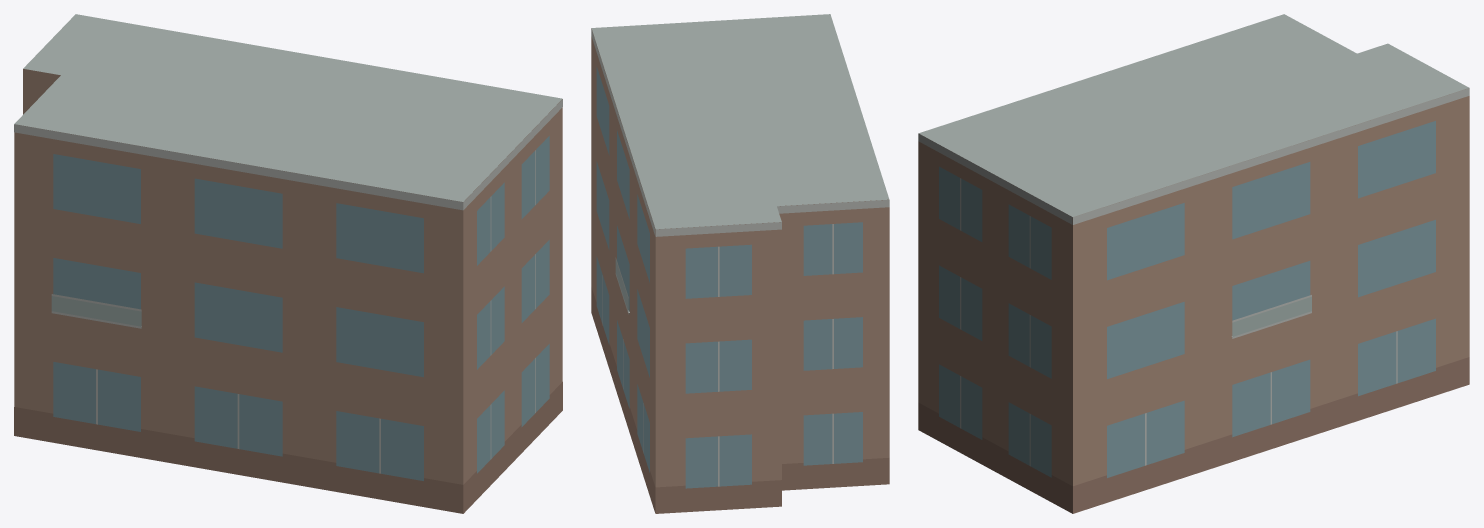
The model's file is survey-upis-32914727.glb.
3 renders of one model, left to right at view 1: azimuth 30°, elevation 25°; view 2: azimuth 150°, elevation 25°; view 3: azimuth 270°, elevation 25°, orthographic. The views are drawn at different scales.
Parts seen in each view (by area): view 1: survey-upis-32914727.tmp; view 2: survey-upis-32914727.tmp; view 3: survey-upis-32914727.tmp.
Boxes of the visible parts, left/top/right/bottom form: survey-upis-32914727.tmp: left=14, top=14, right=562, bottom=513; survey-upis-32914727.tmp: left=591, top=14, right=889, bottom=513; survey-upis-32914727.tmp: left=918, top=14, right=1469, bottom=513.
Bounding box in the file's own units: 13.45 × 9.15 × 15.41.
